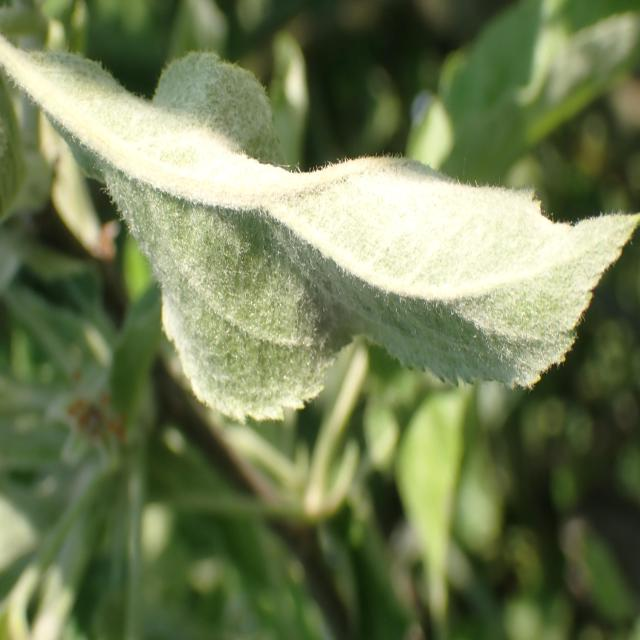Powdery_mildew: (21, 22, 640, 444)
